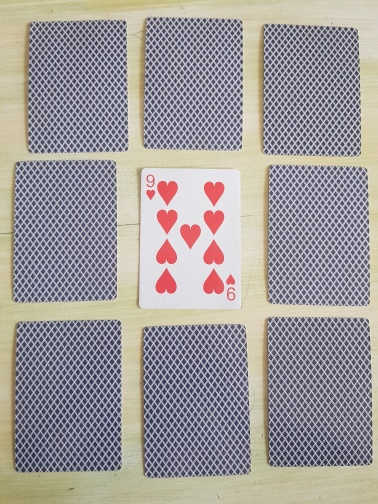nine: (137, 167, 242, 311)
